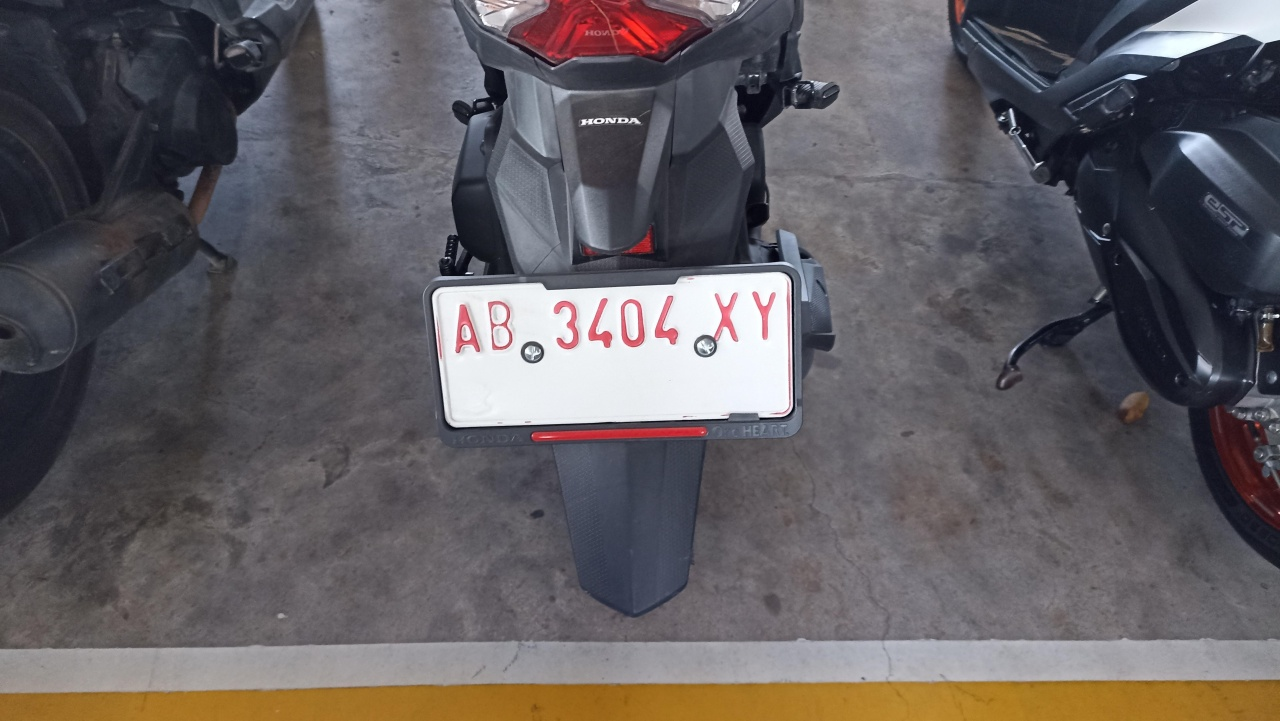plate: (430, 269, 796, 443)
